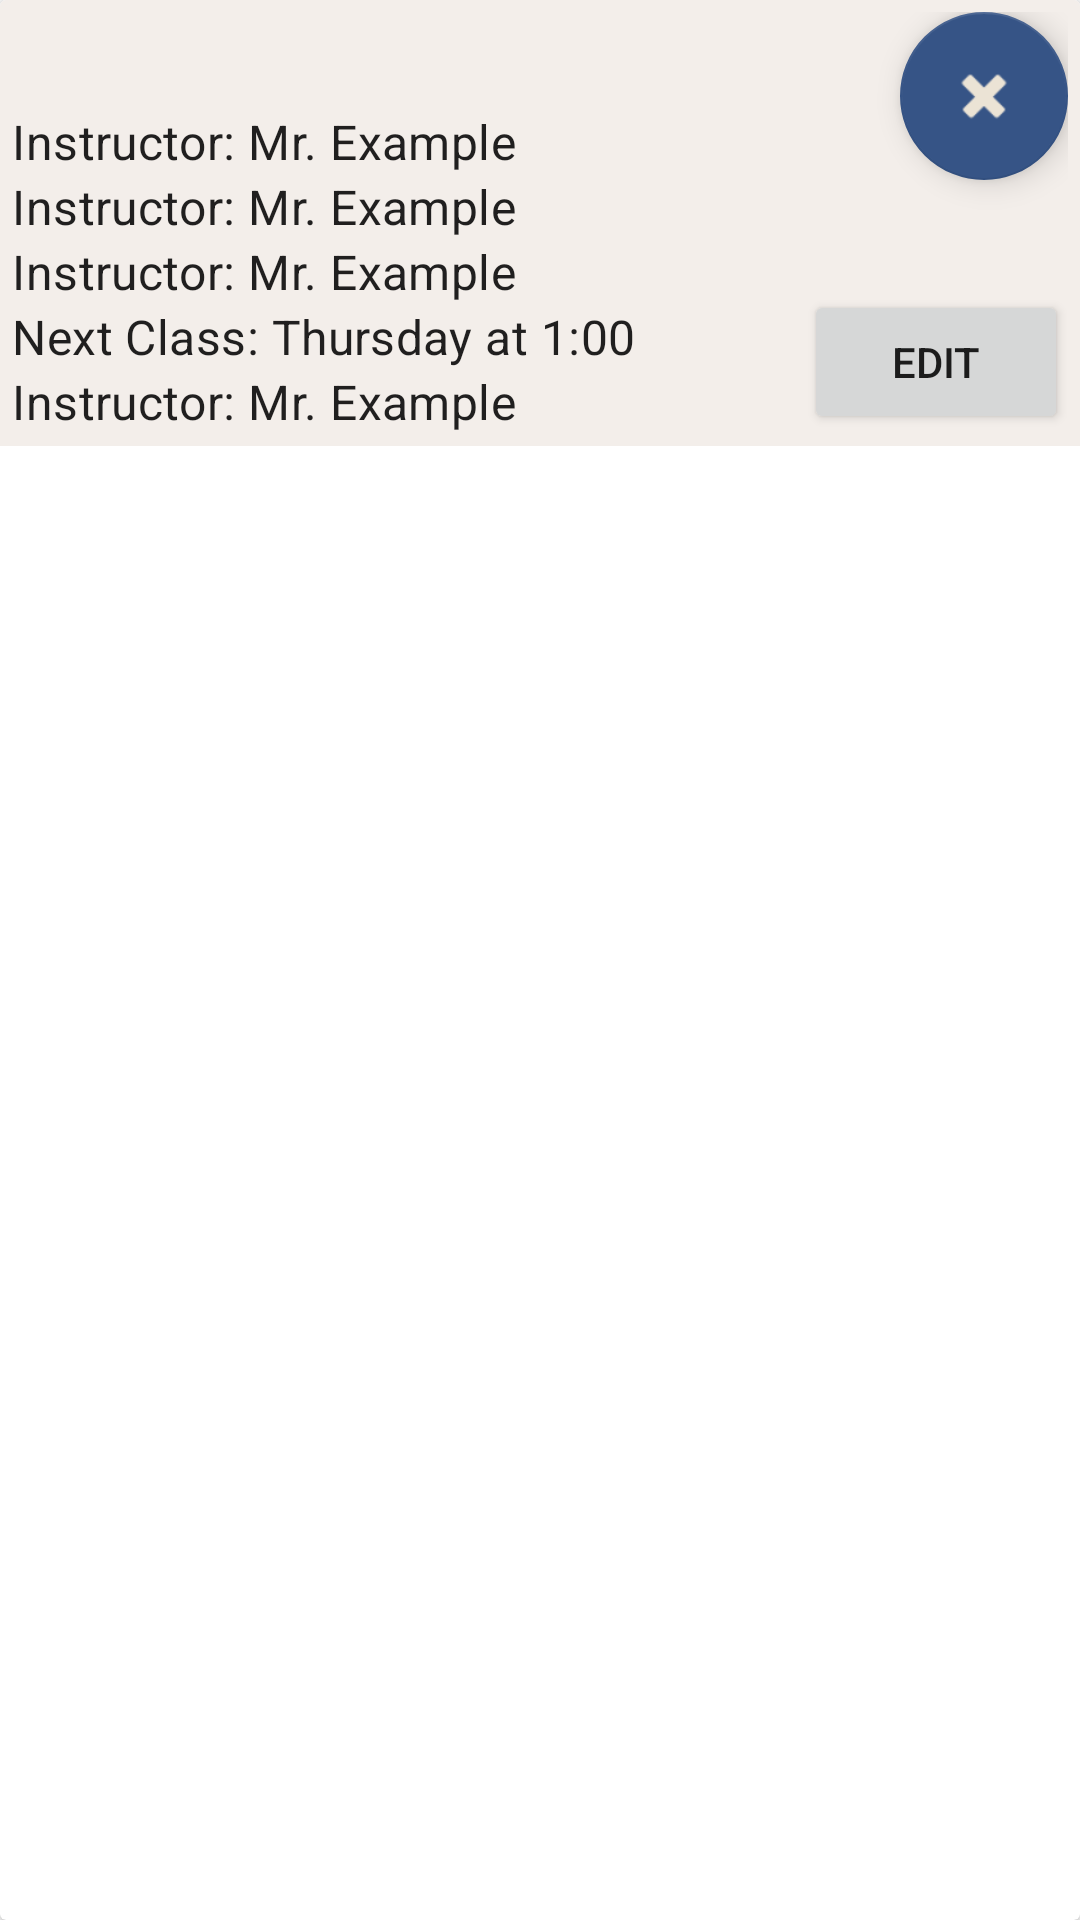

Where to tap for icons on this 1080x1920 app screen, as [x,y]:
delete: [984,96]
